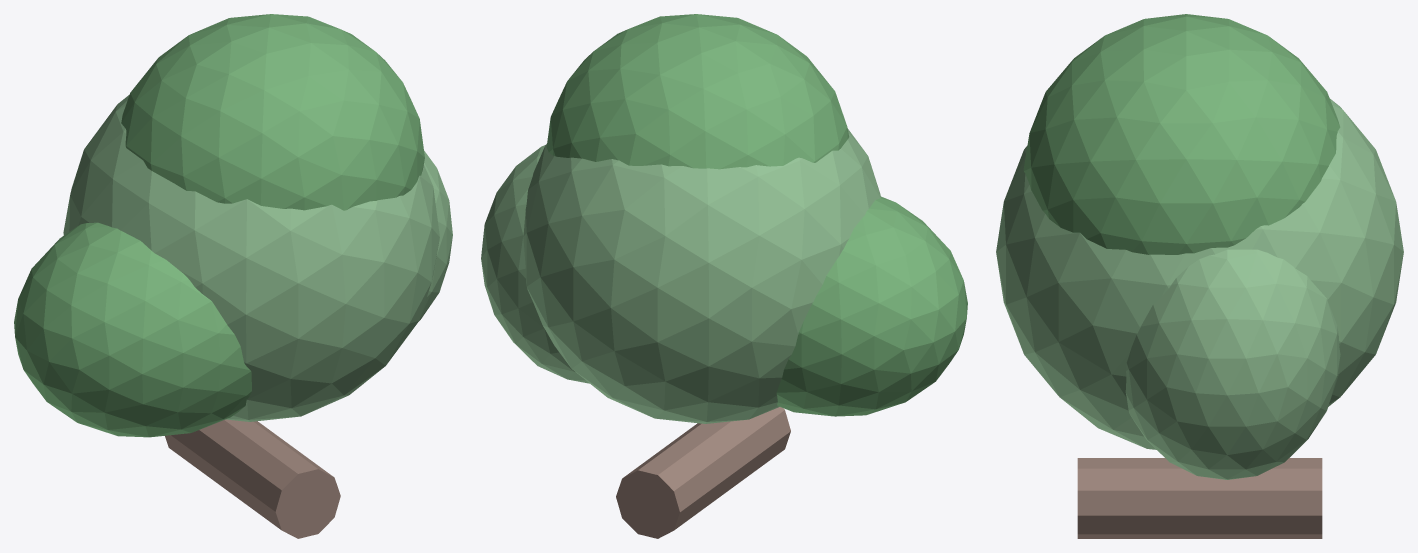
Rendered from tree_puffy.glb.
The picture shows the model from 3 angles, left to right: view 1: azimuth 30°, elevation 25°; view 2: azimuth 150°, elevation 25°; view 3: azimuth 270°, elevation 25°; orthographic projection. The views are drawn at different scales.
Visible parts, largest first — view 1: leaf_0, leaf_3, leaf_1, trunk, leaf_2; view 2: leaf_0, leaf_3, leaf_1, trunk, leaf_2; view 3: leaf_3, leaf_0, leaf_2, trunk.
Part boxes in pixels (box(x1,y1,x2,y2)): leaf_0: box(63, 95, 439, 421); leaf_3: box(121, 14, 424, 210); leaf_1: box(14, 222, 251, 437); trunk: box(165, 419, 340, 538); leaf_2: box(419, 150, 452, 320); leaf_0: box(523, 128, 880, 423); leaf_3: box(546, 14, 849, 169); leaf_1: box(776, 196, 967, 416); trunk: box(616, 407, 790, 538); leaf_2: box(481, 145, 589, 383); leaf_3: box(1023, 14, 1340, 254); leaf_0: box(996, 99, 1403, 449); leaf_2: box(1125, 249, 1340, 479); trunk: box(1077, 458, 1322, 538).
Size of the model in its own units: 0.812 by 0.8251 by 0.6.
